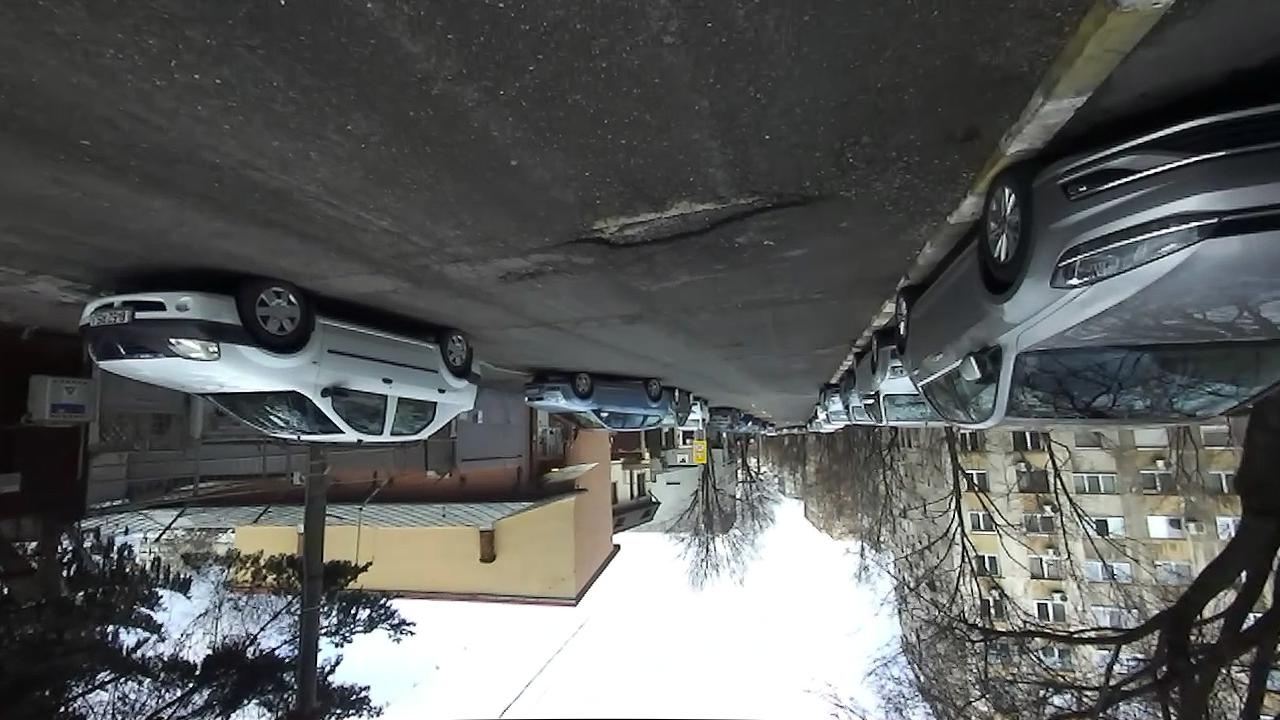pothole: (542, 192, 822, 252), (491, 264, 571, 289)
